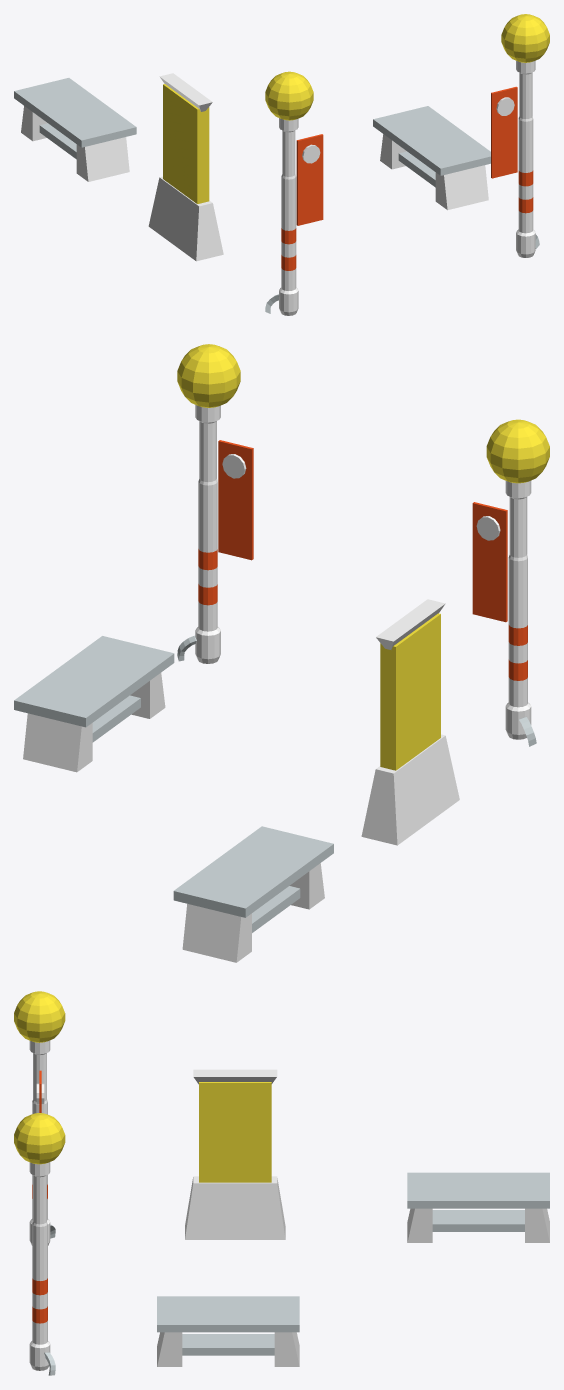
File: park-pavilion.glb
3 views of the same model, one above another, from view 1: azimuth 30°, elevation 25°; view 2: azimuth 150°, elevation 25°; view 3: azimuth 270°, elevation 25° (orthographic). The views are drawn at different scales.
Visible parts, largest first — view 1: park-pavilion (×5); view 2: park-pavilion (×5); view 3: park-pavilion (×5).
Boxes of the visible parts, <box> form: park-pavilion (×5): <box>14,14,549,315</box>; park-pavilion (×5): <box>14,344,549,962</box>; park-pavilion (×5): <box>14,991,549,1375</box>.
Size of the model in its own units: 0.1174 by 0.0911 by 0.1748.
